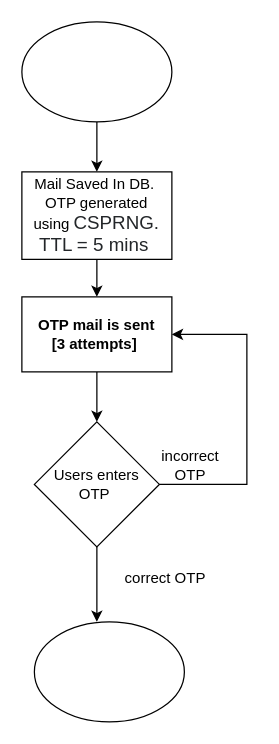
Image size: 279x744. Some labels were removed from this diagram. Here are the shapes that lost their labels. From the top down, the box of each, then its label:
(21, 21, 172, 122): User Enters Email
(33, 621, 184, 722): Dashboard Opens
